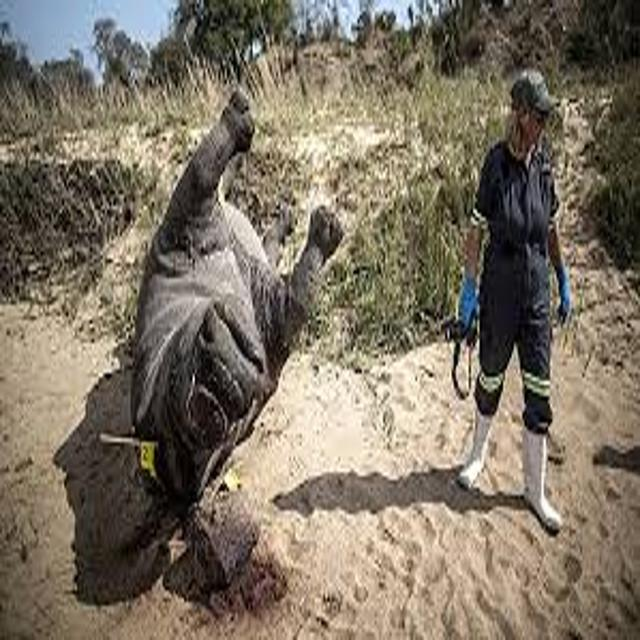poacher: (395, 53, 628, 544)
rhino: (63, 71, 371, 537)
